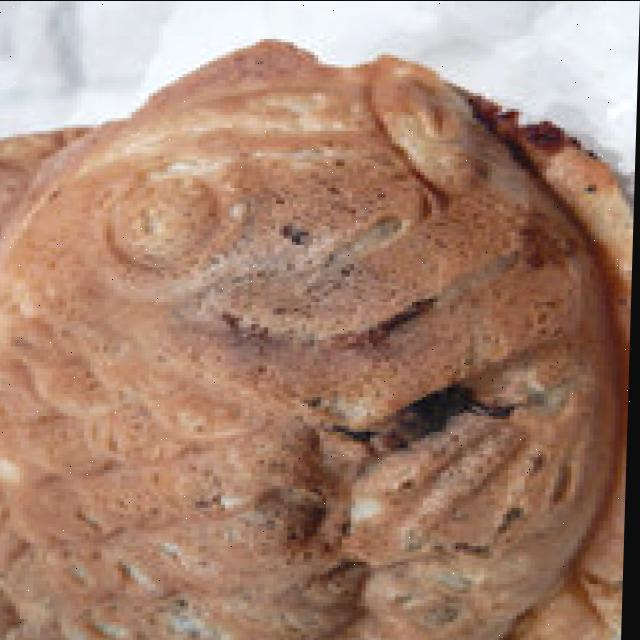熟制海鲜: (0, 31, 639, 640)
